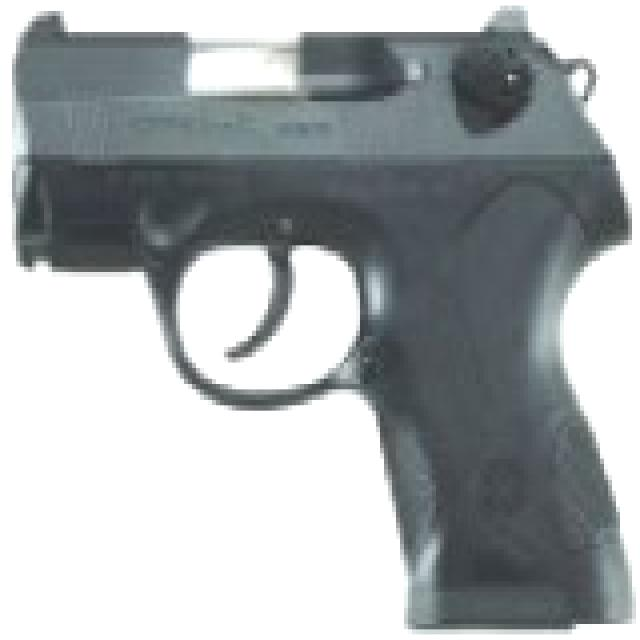pistol: (20, 0, 636, 624)
